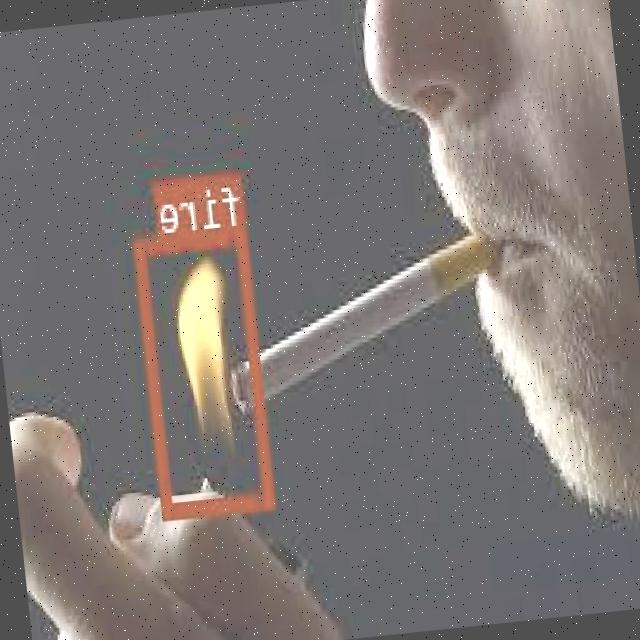fire: (134, 226, 276, 516)
